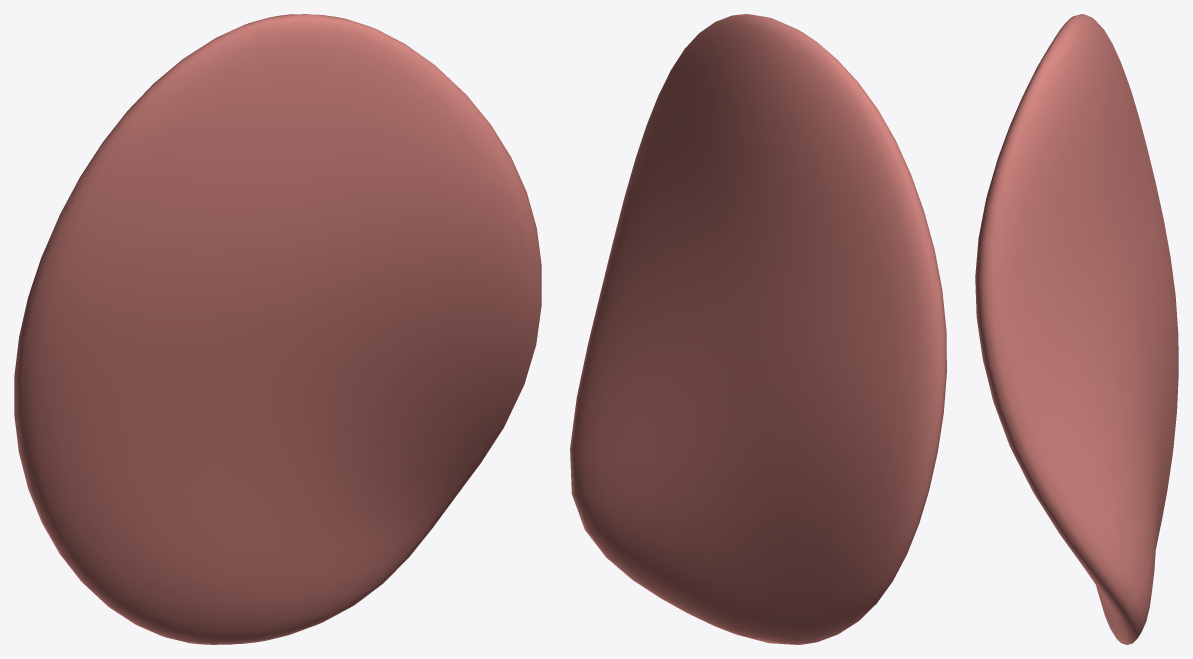
The picture shows the model from 3 angles, left to right: view 1: azimuth 30°, elevation 25°; view 2: azimuth 150°, elevation 25°; view 3: azimuth 270°, elevation 25°; orthographic projection. The views are drawn at different scales.
Visible parts, largest first — view 1: ZA_76e7c9568c42d28d; view 2: ZA_76e7c9568c42d28d; view 3: ZA_76e7c9568c42d28d.
Part boxes in pixels (<box>): ZA_76e7c9568c42d28d: <box>14,14,541,644</box>; ZA_76e7c9568c42d28d: <box>570,14,946,644</box>; ZA_76e7c9568c42d28d: <box>975,14,1178,644</box>.
Size of the model in its own units: 0.0227 by 0.0316 by 0.00992.
